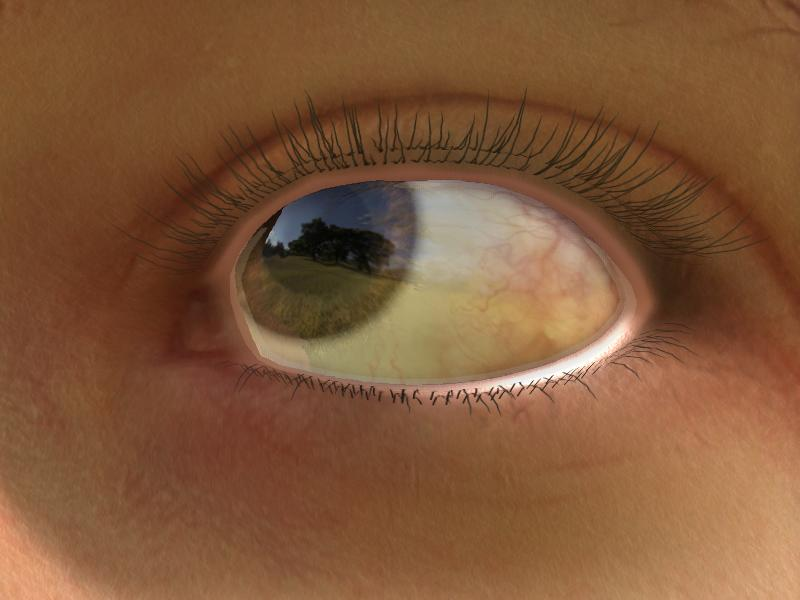eye: (241, 181, 416, 335)
